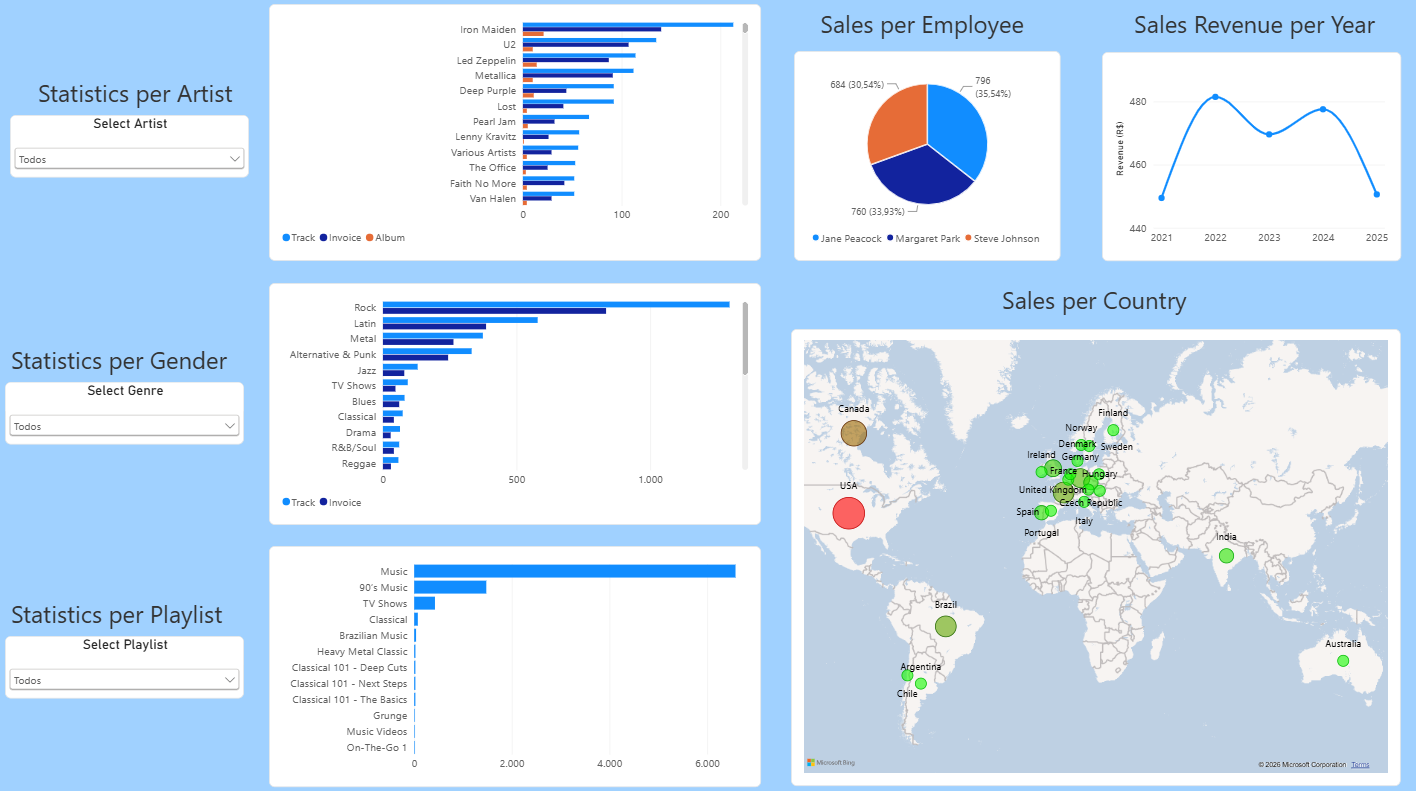

The page's visual inventory and layout, read from the dashboard file:
{"tool":"powerbi","page":{"name":"Página 1","canvas":[1920,1080],"ordinal":0},"visuals":[{"type":"clusteredBarChart","title":"Number of Tracks","fields":{"Category":["public artist.name"],"Y":["CountNonNull(public track.track_id)","CountNonNull(public invoice_line.invoice_id)","CountNonNull(public album.album_id)"]},"box":[376.4,16.6,660.7,344.7],"z":0},{"type":"textbox","box":[1096.8,19.7,312.1,61],"z":0,"group":"g2"},{"type":"textbox","box":[1360.7,391.6,291.5,56.7],"z":0,"group":"g1"},{"type":"map","fields":{"Category":["public customer.country"],"Size":["CountNonNull(public customer.country)"]},"box":[1077.9,453.2,819.4,614.2],"z":0,"group":"g4"},{"type":"textbox","box":[1501.2,19.7,396.1,46.9],"z":1000},{"type":"pieChart","fields":{"Category":["public employee.complete_name"],"Y":["Sum(public invoice_line.quantity)"]},"box":[1080.9,79,358.3,282.3],"z":1000,"group":"g2"},{"type":"slicer","title":"Select Artist","fields":{"Values":["public artist.name"]},"box":[28.7,166.3,321.4,84.3],"z":1000,"group":"g5"},{"type":"group","id":"g1","title":"Grupo 1","box":[1360.7,391.6,291.5,56.7],"z":1000,"group":"g4"},{"type":"textbox","box":[66.5,113.4,266.1,52.9],"z":2000,"group":"g5"},{"type":"clusteredBarChart","title":"Number of Tracks","fields":{"Category":["public genre.name"],"Y":["CountNonNull(public track.track_id)","CountNonNull(public invoice_line.invoice_id)"]},"box":[376.4,391.6,660.7,325],"z":2000},{"type":"group","id":"g2","title":"Grupo 1","box":[1080.9,19.7,358.3,341.7],"z":3000},{"type":"clusteredBarChart","title":"Number of Tracks","fields":{"Category":["public playlist.name"],"Y":["CountNonNull(public playlist_track.playlist_id)"]},"box":[376.4,743.8,660.7,323.5],"z":4000},{"type":"slicer","title":"Select Playlist","fields":{"Values":["public playlist.name"]},"box":[21.2,866.3,321.4,84.3],"z":4000,"group":"g3"},{"type":"slicer","title":"Select Genre","fields":{"Values":["public genre.name"]},"box":[21.2,524.6,321.4,84.3],"z":5000,"group":"g6"},{"type":"group","id":"g3","title":"Grupo 2","box":[21.2,813.4,322,137.6],"z":5000},{"type":"textbox","box":[28.8,813.4,314.5,52.9],"z":5005,"group":"g3"},{"type":"group","id":"g4","title":"Grupo 4","box":[1077.9,391.6,819.4,675.8],"z":6000},{"type":"group","id":"g5","title":"Grupo 3","box":[28.7,113.4,322,137.6],"z":7000},{"type":"textbox","box":[28.8,471.7,314.5,52.9],"z":7000,"group":"g6"},{"type":"group","id":"g6","title":"Grupo 5","box":[21.2,471.7,322,137.6],"z":8000},{"type":"lineChart","fields":{"Category":["public invoice.invoice_year"],"Y":["Sum(public invoice.total)"]},"box":[1495.2,80.1,402.1,281.2],"z":9000}]}

Visuals, with their boxes in screenshot pixels (x1, y1, x2, y2), scaled from the page's 1920x1080 canvas onto the 1416x791 screenshot:
"Number of Tracks" clusteredBarChart: rect(278, 12, 765, 265)
textbox: rect(809, 14, 1039, 59)
textbox: rect(1004, 287, 1218, 328)
map - public customer.country x CountNonNull(public customer.country): rect(795, 332, 1399, 782)
textbox: rect(1107, 14, 1399, 49)
pieChart - public employee.complete_name x Sum(public invoice_line.quantity): rect(797, 58, 1061, 265)
"Select Artist" slicer: rect(21, 122, 258, 184)
"Grupo 1" group: rect(1004, 287, 1218, 328)
textbox: rect(49, 83, 245, 122)
"Number of Tracks" clusteredBarChart: rect(278, 287, 765, 525)
"Grupo 1" group: rect(797, 14, 1061, 265)
"Number of Tracks" clusteredBarChart: rect(278, 545, 765, 782)
"Select Playlist" slicer: rect(16, 634, 253, 696)
"Select Genre" slicer: rect(16, 384, 253, 446)
"Grupo 2" group: rect(16, 596, 253, 697)
textbox: rect(21, 596, 253, 634)
"Grupo 4" group: rect(795, 287, 1399, 782)
"Grupo 3" group: rect(21, 83, 259, 184)
textbox: rect(21, 345, 253, 384)
"Grupo 5" group: rect(16, 345, 253, 446)
lineChart - public invoice.invoice_year x Sum(public invoice.total): rect(1103, 59, 1399, 265)
